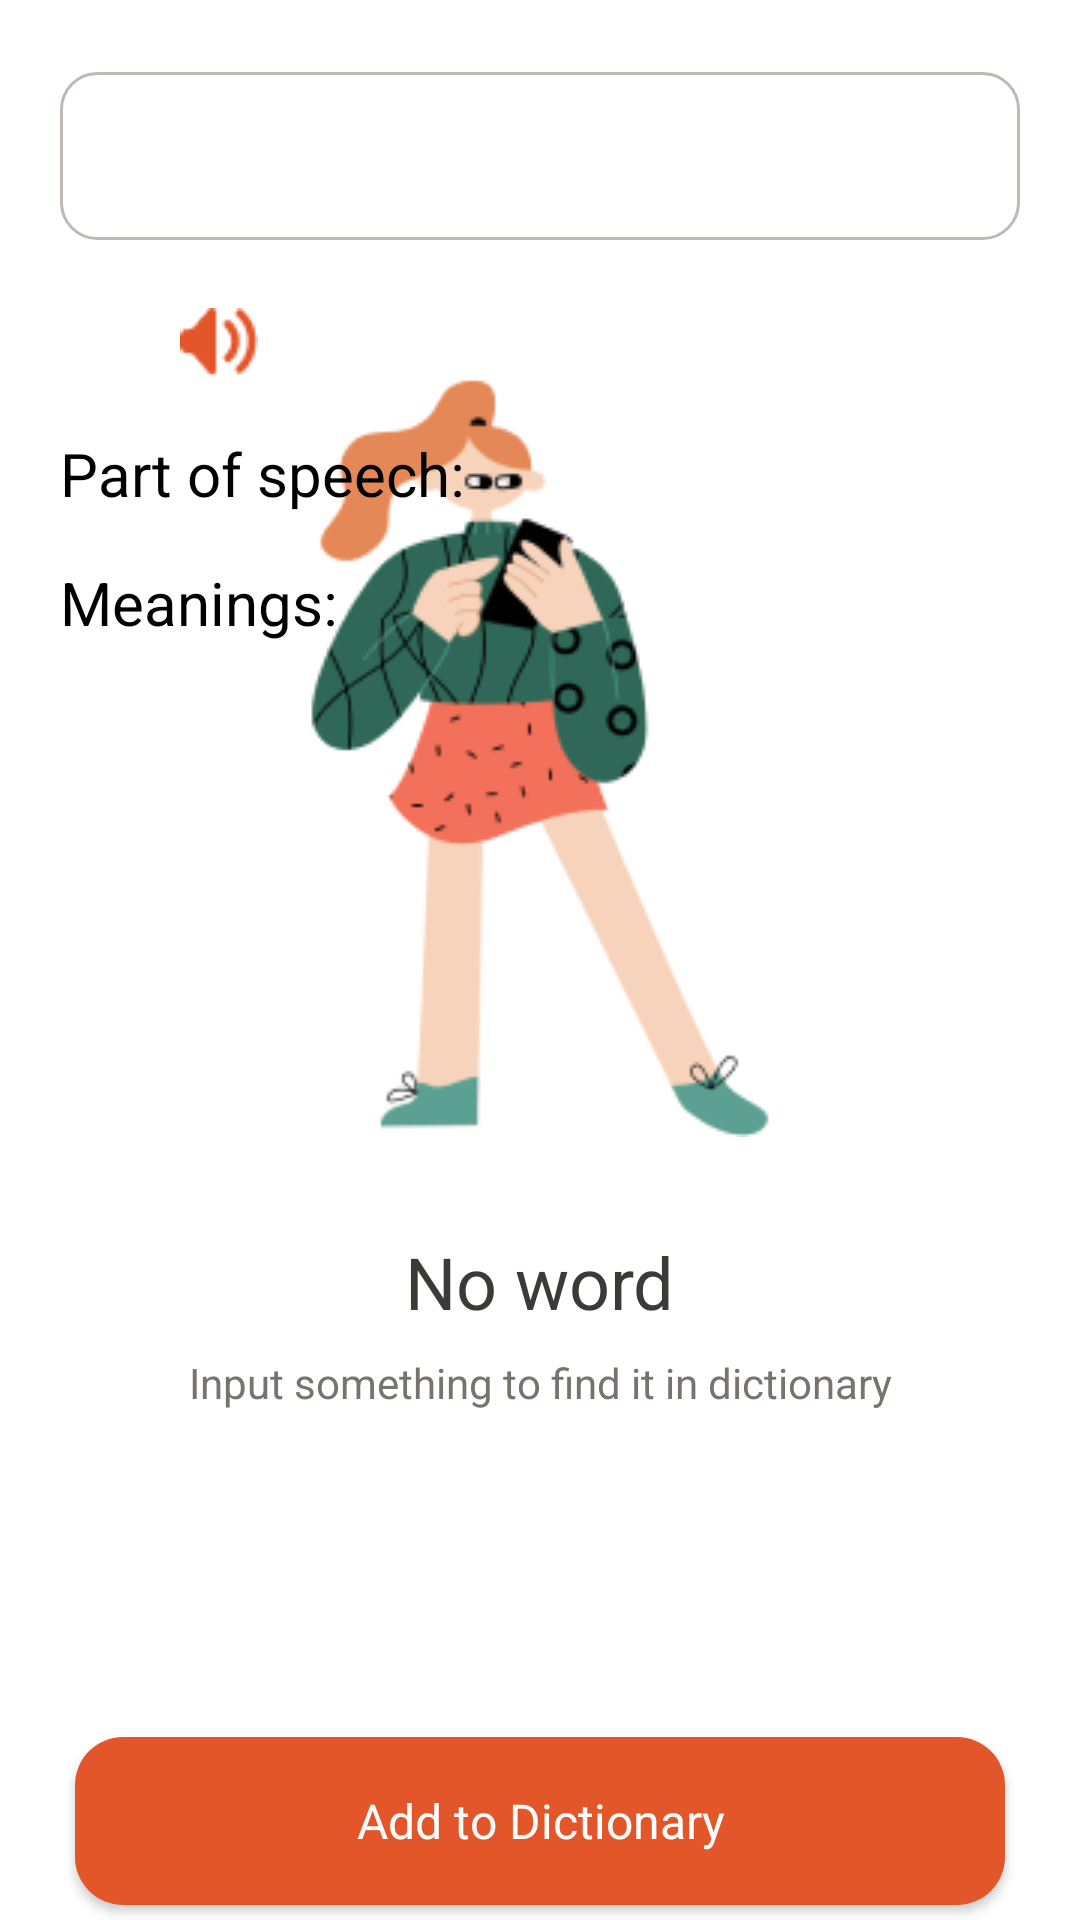

Point at icon controls on the screen. Image size 1080*1920, points as (x=x, y=y).
sound: (x=219, y=341)
